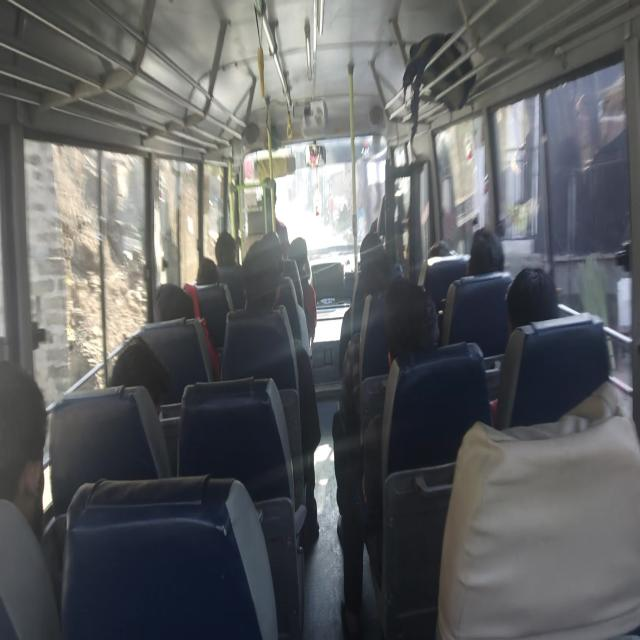person: (337, 276, 440, 636), (239, 233, 321, 545), (494, 264, 626, 428), (485, 264, 560, 414), (0, 358, 47, 540), (109, 334, 172, 415), (384, 276, 440, 366), (505, 265, 559, 336), (466, 226, 504, 276), (154, 282, 195, 322), (215, 230, 238, 267), (196, 256, 219, 286)
